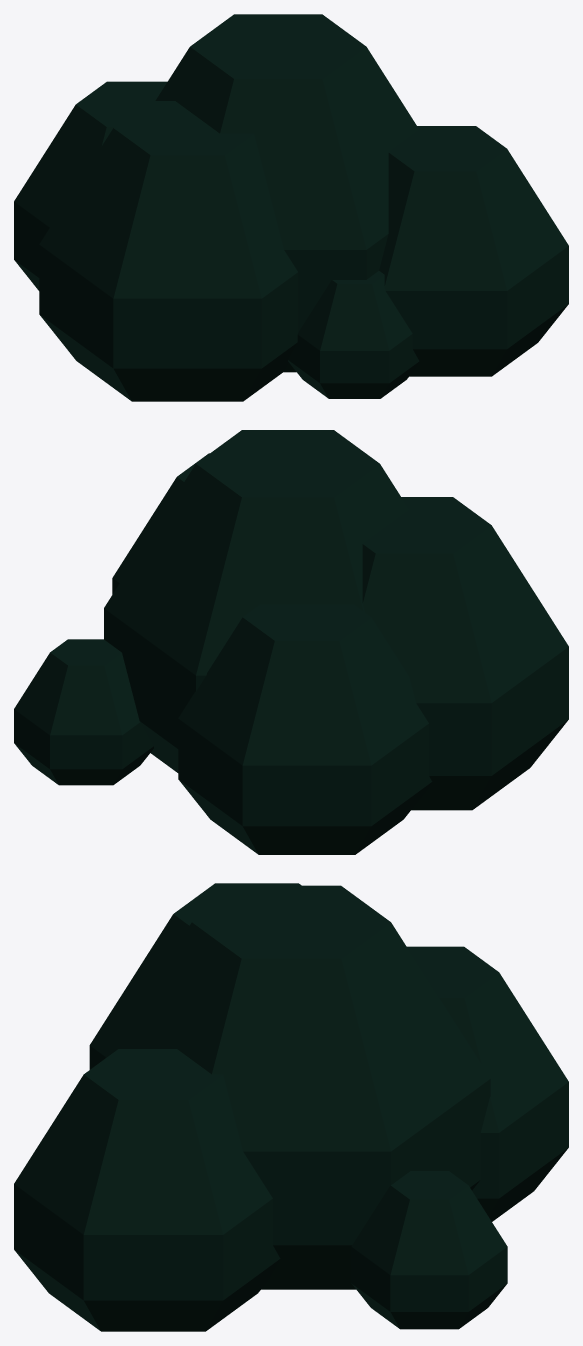
File: Bush2.fbx
The picture shows the model from 3 angles, top to bottom: view 1: azimuth 30°, elevation 25°; view 2: azimuth 150°, elevation 25°; view 3: azimuth 270°, elevation 25°; orthographic projection. The views are drawn at different scales.
Visible parts, largest first — view 1: mergedBlocks; view 2: mergedBlocks; view 3: mergedBlocks.
Boxes of the visible parts, <box> form: mergedBlocks: <box>14,14,568,401</box>; mergedBlocks: <box>14,430,568,854</box>; mergedBlocks: <box>14,883,568,1331</box>.
Size of the model in its own units: 15.7 by 10 by 16.08.
